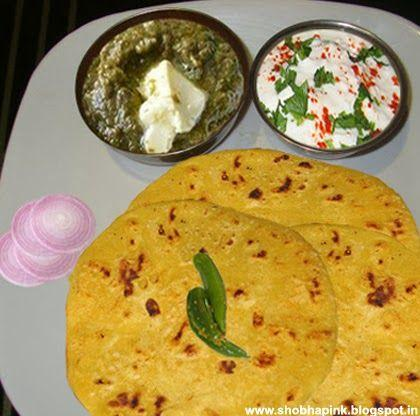saag: (81, 17, 239, 152)
